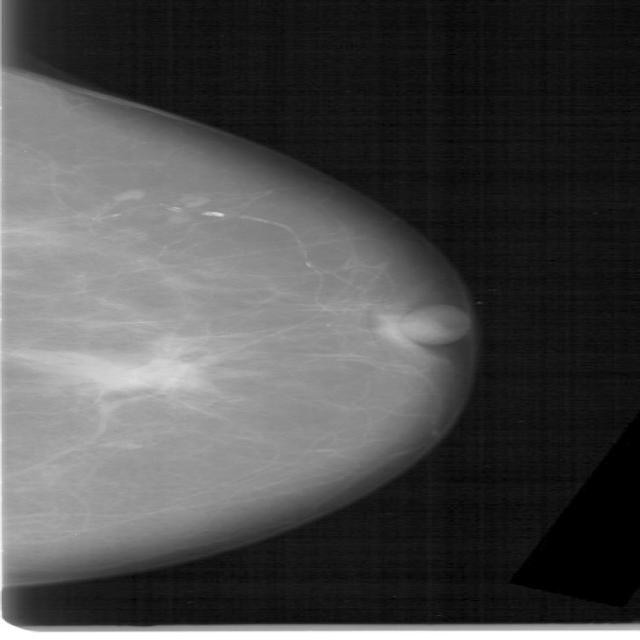tumour: (15, 347, 214, 395)
